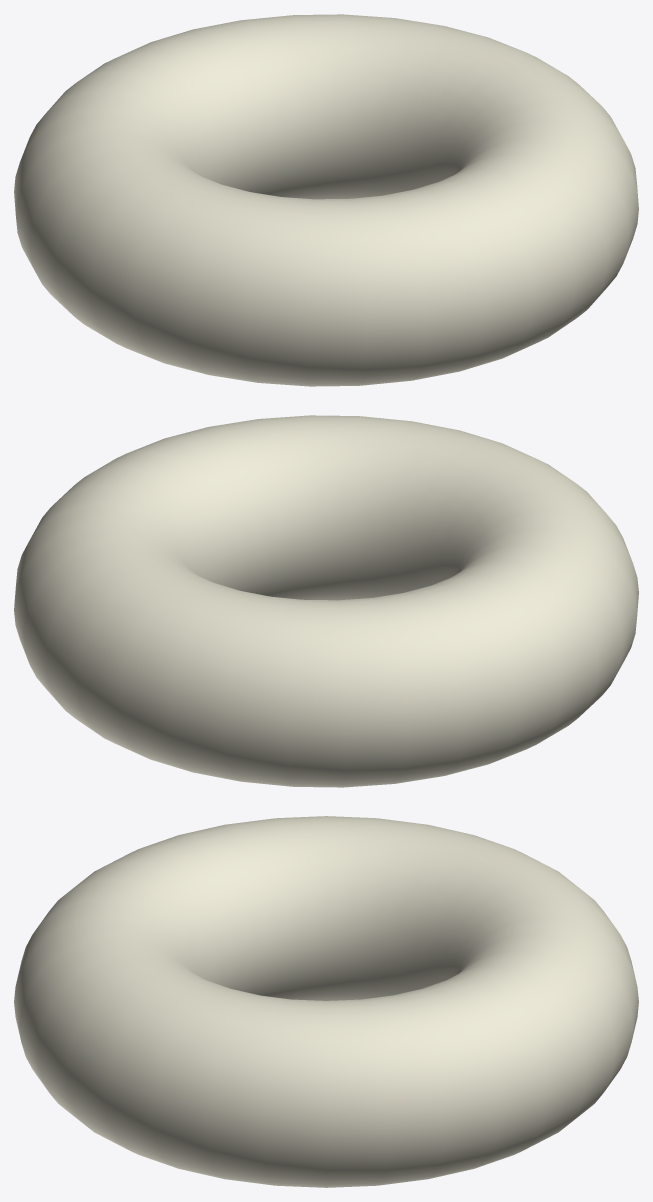
The picture shows the model from 3 angles, top to bottom: view 1: azimuth 30°, elevation 25°; view 2: azimuth 150°, elevation 25°; view 3: azimuth 270°, elevation 25°; orthographic projection.
Parts seen in each view (by area): view 1: Shape_Torus; view 2: Shape_Torus; view 3: Shape_Torus.
Part boxes in pixels (x1,y1,x2,y2): Shape_Torus: (14,14,638,386); Shape_Torus: (14,415,638,787); Shape_Torus: (14,816,638,1187).
Size of the model in its own units: 1 by 0.3 by 1.
